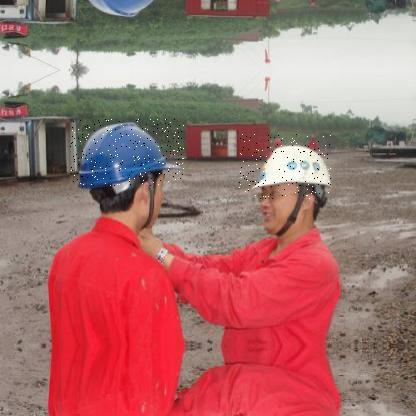safetyhelmet: (70, 120, 185, 188), (238, 134, 332, 200)
